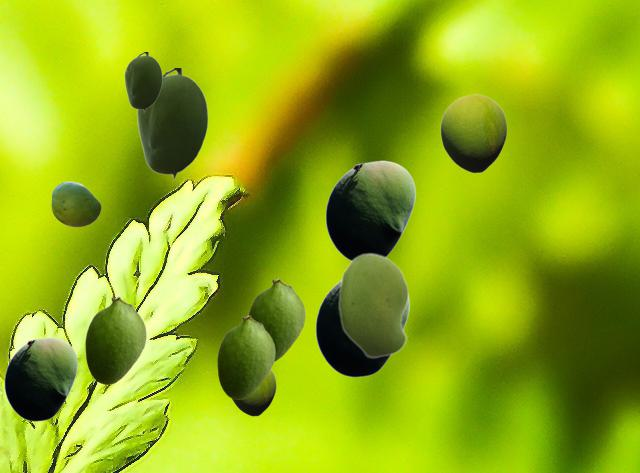green_mango: (315, 280, 409, 376), (325, 160, 415, 260), (136, 68, 207, 179), (338, 252, 408, 358), (4, 337, 77, 420), (85, 296, 145, 383), (440, 94, 506, 172), (217, 315, 274, 398), (248, 278, 304, 361), (51, 181, 100, 226), (124, 52, 161, 111), (231, 370, 275, 415)
